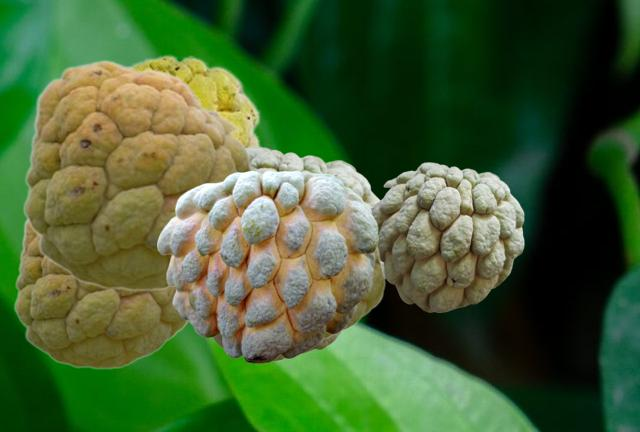atis: (22, 59, 254, 290), (157, 170, 377, 362), (212, 146, 385, 360), (13, 219, 188, 368), (370, 162, 523, 311), (125, 54, 260, 145), (322, 246, 384, 341)
